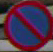No waiting: (2, 4, 48, 46)
